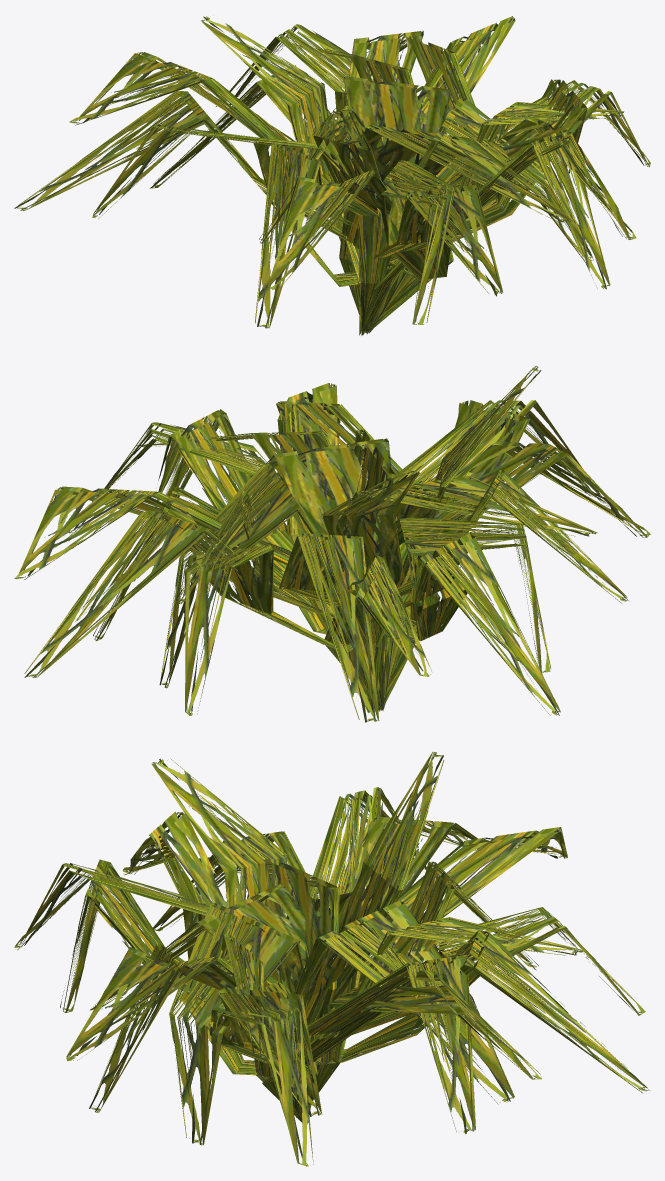
The model's file is Strauch2.fbx.
3 renders of one model, top to bottom at view 1: azimuth 30°, elevation 25°; view 2: azimuth 150°, elevation 25°; view 3: azimuth 270°, elevation 25°, orthographic. The views are drawn at different scales.
Visible parts, largest first — view 1: Cube.001; view 2: Cube.001; view 3: Cube.001.
Boxes of the visible parts, <box> form: Cube.001: <box>14,16,650,335</box>; Cube.001: <box>14,366,650,722</box>; Cube.001: <box>14,752,649,1166</box>.
Bounding box in the file's own units: 111 × 56.68 × 103.
1 material, 1 textured.
